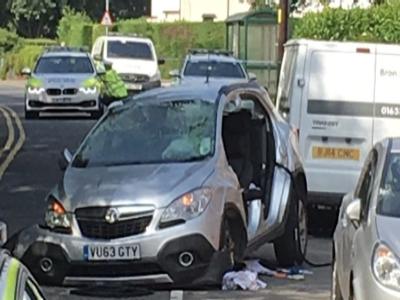licence: (86, 245, 146, 264), (313, 145, 358, 158)
